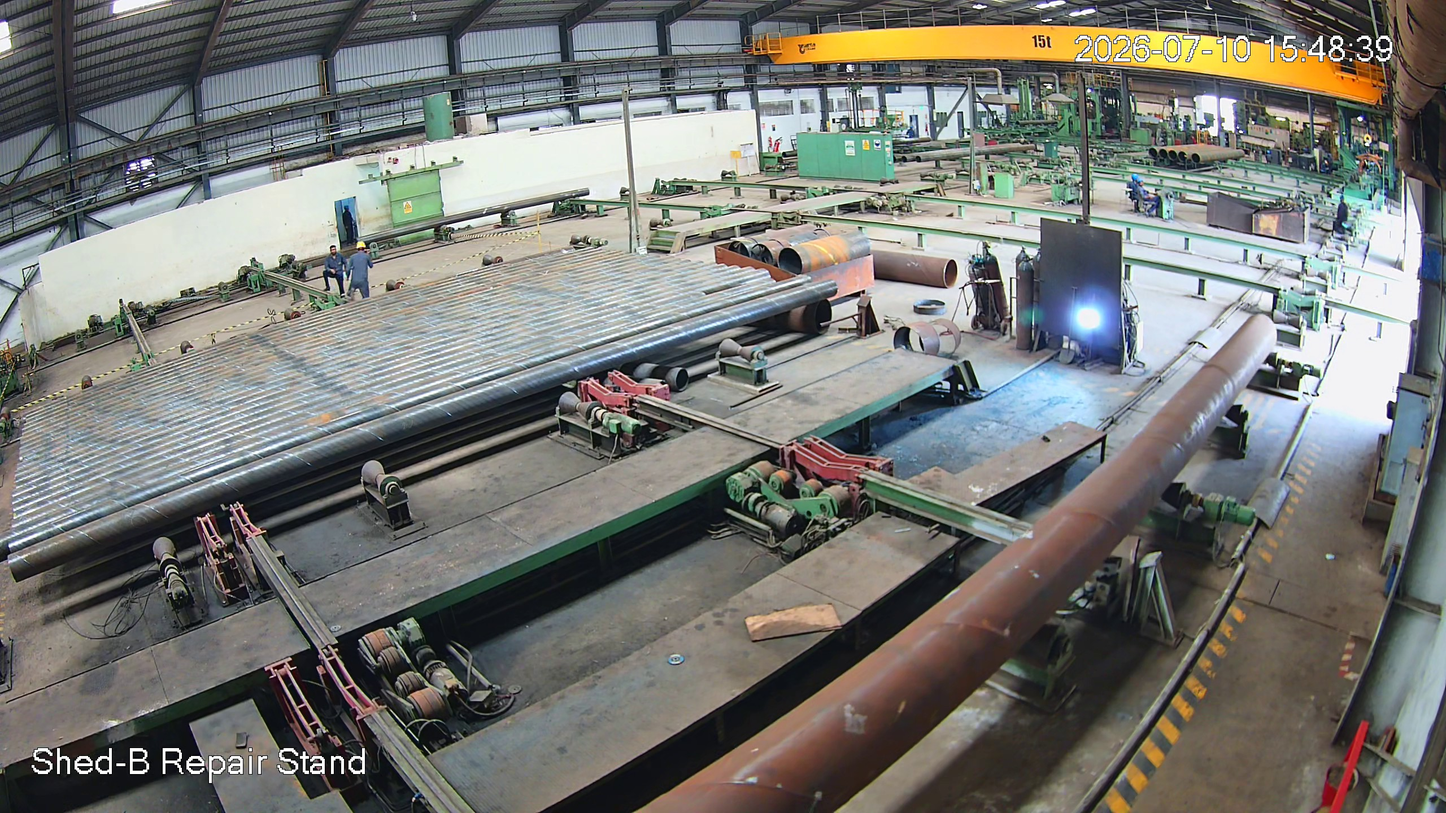Helmet: (354, 238, 368, 261)
Person: (350, 241, 372, 297), (325, 244, 347, 290)
